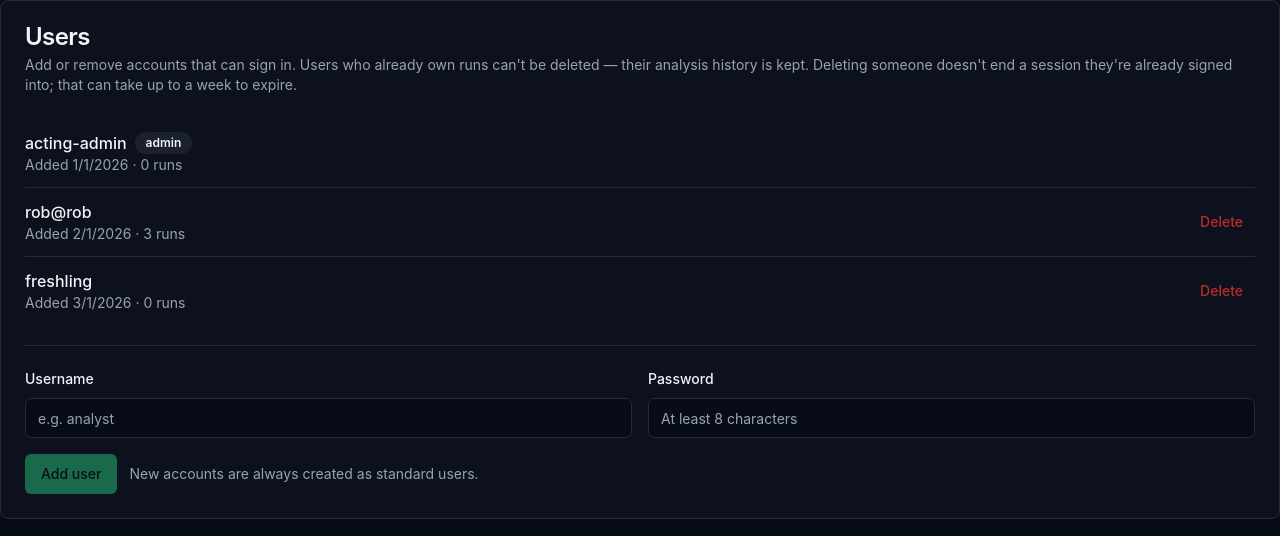
Test: UsersCard › keeps the submit button disabled until both fields are long enough
Expected: the text "rob@rob" is shown, top-left (25, 200), bottom-right (92, 224)
Expected: the button "Add user" is disabled, top-left (25, 454), bottom-right (118, 494)
Type "ab" into the field labelled "Username".
click(328, 418); type("ab")  # box top-left (25, 398), bottom-right (632, 438)
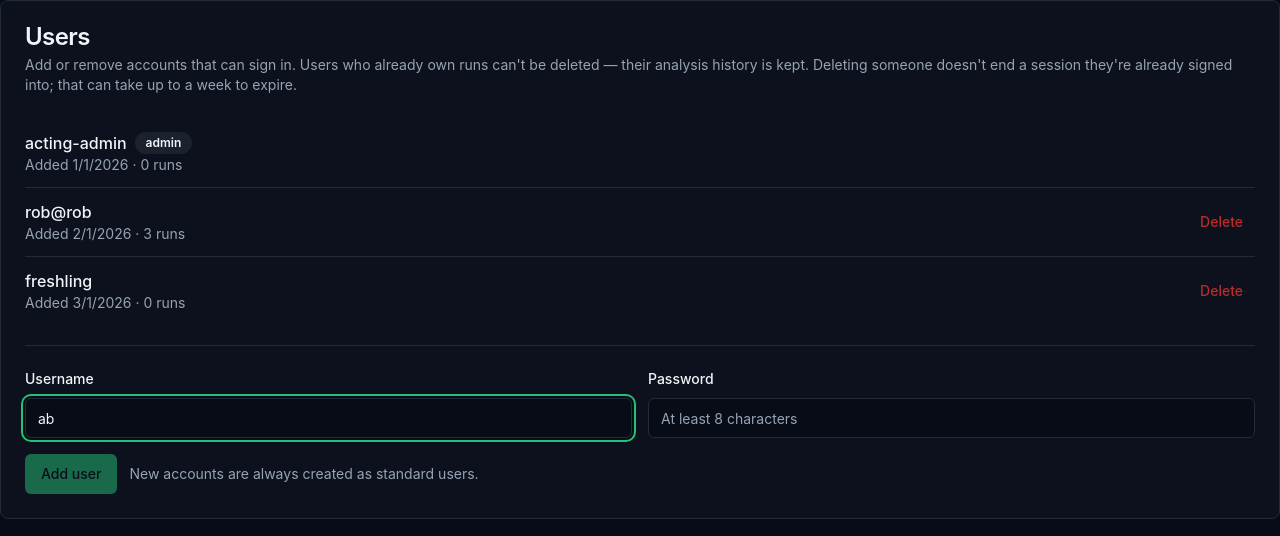
Type "short" into the password field labelled "Password".
click(952, 418); type("short")  # box top-left (648, 398), bottom-right (1255, 438)
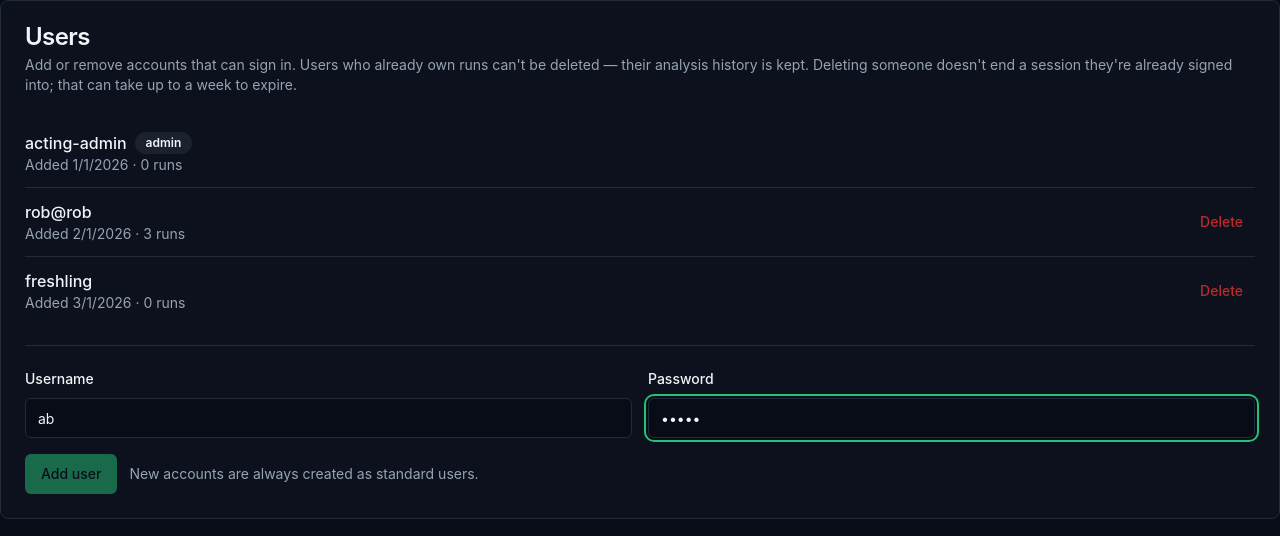
Expected: the button "Add user" is disabled, top-left (25, 454), bottom-right (118, 494)
Type "cd" into the field labelled "Username".
click(328, 418); type("cd")  # box top-left (25, 398), bottom-right (632, 438)
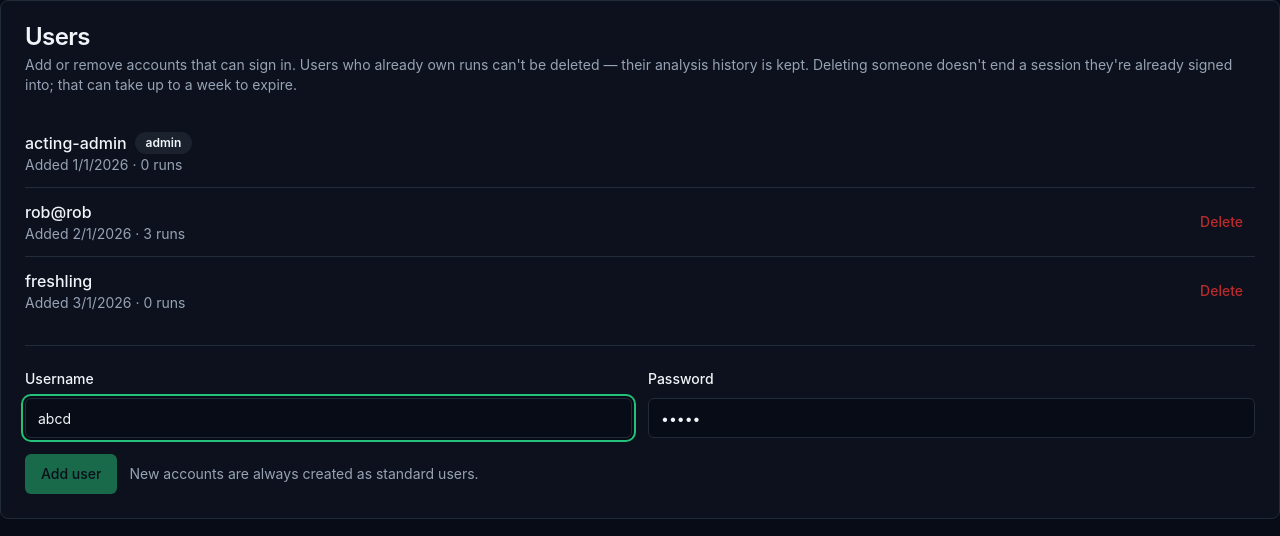
Type "enough!!" into the password field labelled "Password".
click(952, 418); type("enough!!")  # box top-left (648, 398), bottom-right (1255, 438)
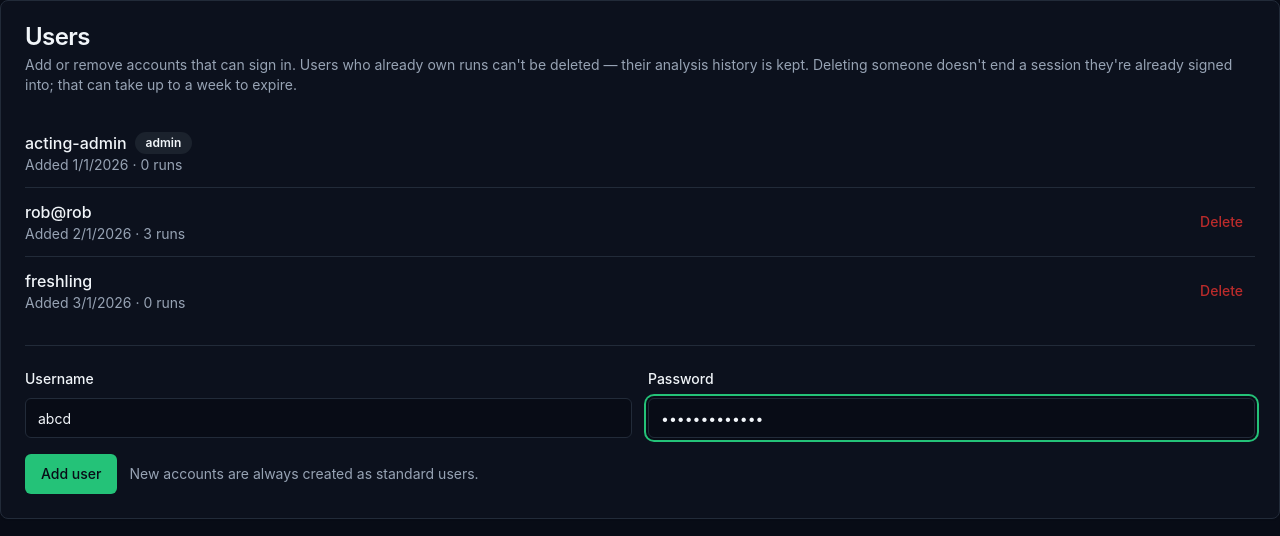
Now the button "Add user" is enabled, box top-left (25, 454), bottom-right (118, 494)
